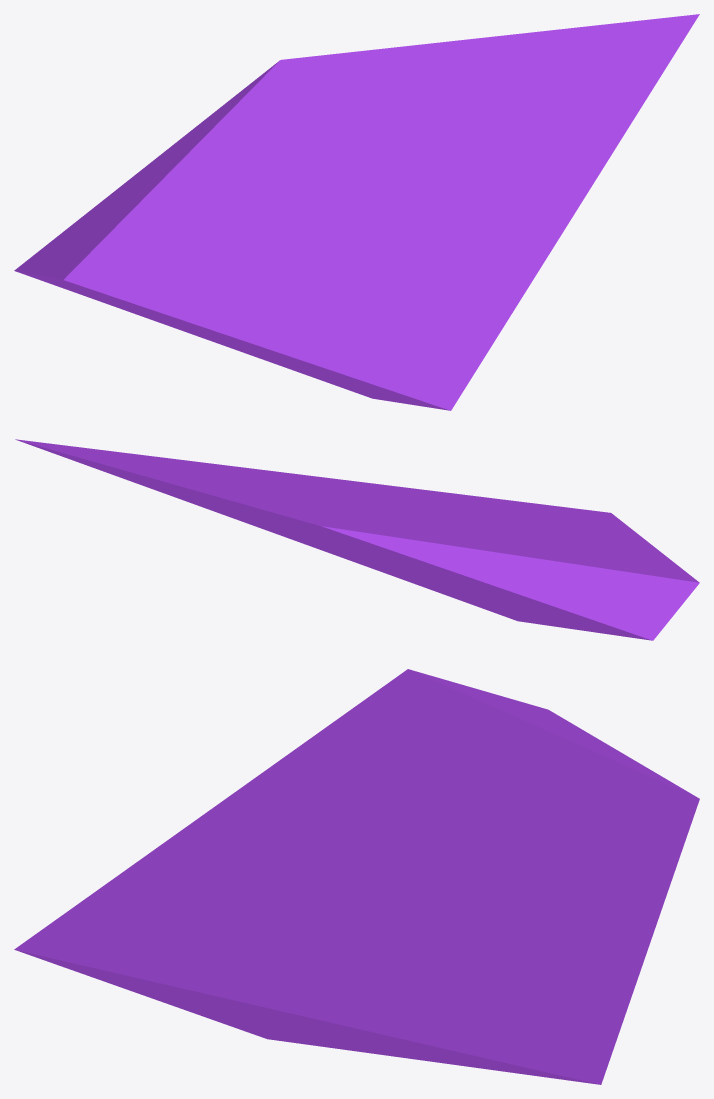
File: Window_141_6_chunks.fbx
3 renders of one model, top to bottom at view 1: azimuth 30°, elevation 25°; view 2: azimuth 150°, elevation 25°; view 3: azimuth 270°, elevation 25°, orthographic. The views are drawn at different scales.
Visible parts, largest first — view 1: Window_141_6_0; view 2: Window_141_6_0; view 3: Window_141_6_0.
Boxes of the visible parts, left/top/right/bottom form: Window_141_6_0: left=14, top=14, right=699, bottom=410; Window_141_6_0: left=15, top=439, right=699, bottom=640; Window_141_6_0: left=14, top=669, right=699, bottom=1084.
Bounding box in the file's own units: 367 × 103 × 225.
